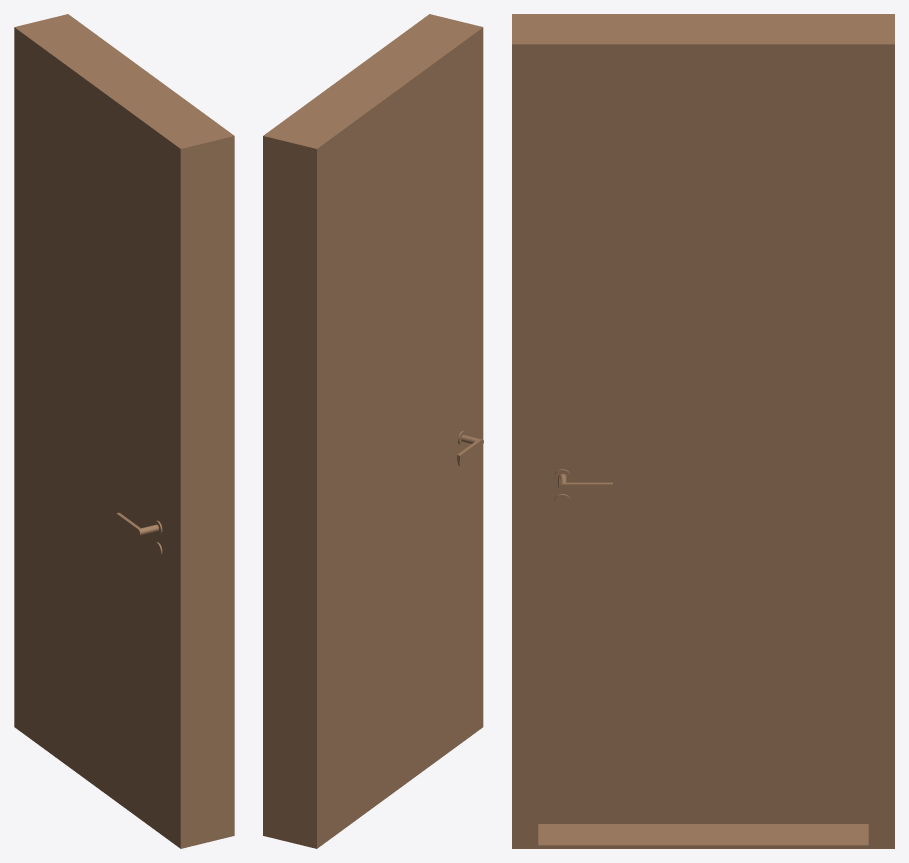
The model's file is bim-component-basichouse-ifcdoor-02.meshopt.glb.
The picture shows the model from 3 angles, left to right: view 1: azimuth 30°, elevation 25°; view 2: azimuth 150°, elevation 25°; view 3: azimuth 270°, elevation 25°; orthographic projection. The views are drawn at different scales.
Parts seen in each view (by area): view 1: IfcDoor_3986; view 2: IfcDoor_3986; view 3: IfcDoor_3986.
Boxes of the visible parts, x1,y1,x2,y2 form: IfcDoor_3986: (14, 14, 234, 848); IfcDoor_3986: (263, 14, 483, 848); IfcDoor_3986: (512, 14, 894, 848).
Bounding box in the file's own units: 0.2004 × 1.8 × 0.7764.
